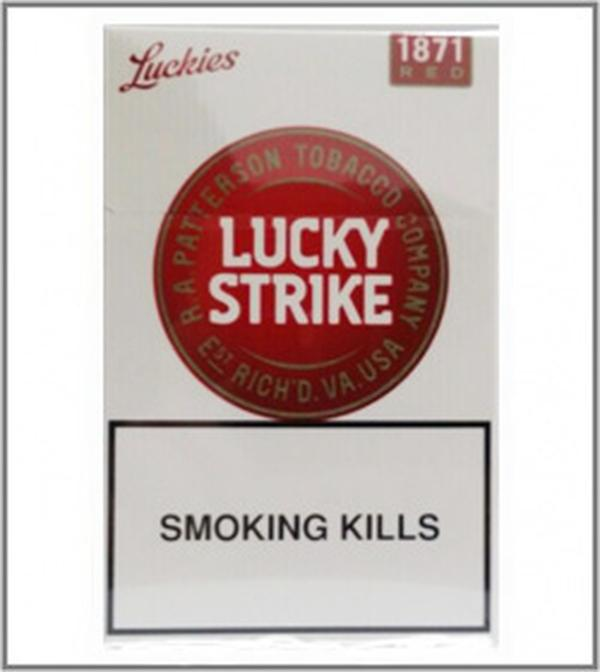lucky_strike_red: (104, 25, 493, 638)
